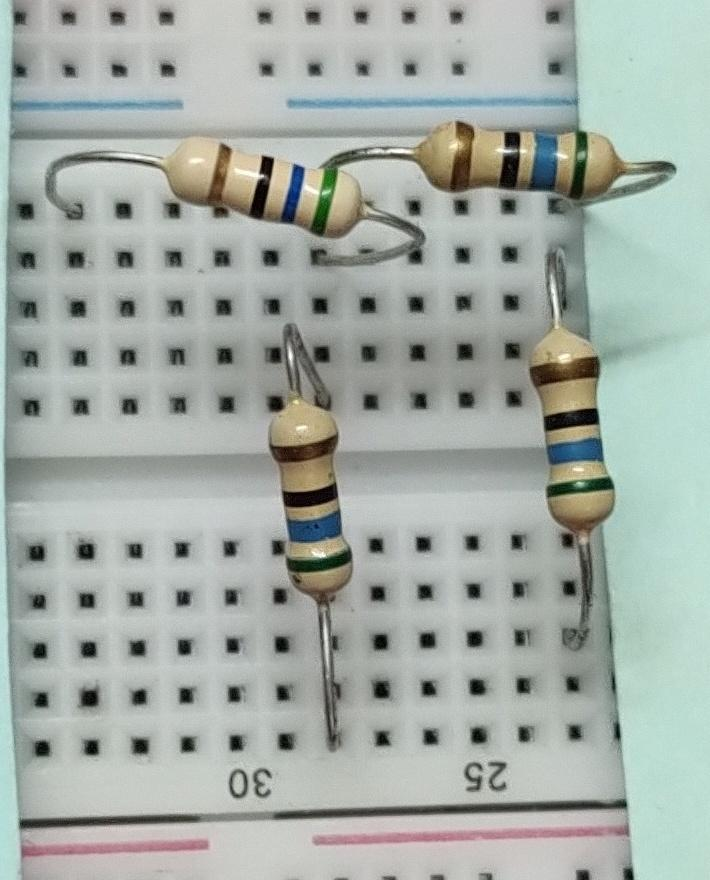resistor: (137, 122, 362, 260), (260, 392, 373, 605), (400, 115, 630, 210), (525, 312, 612, 550)
